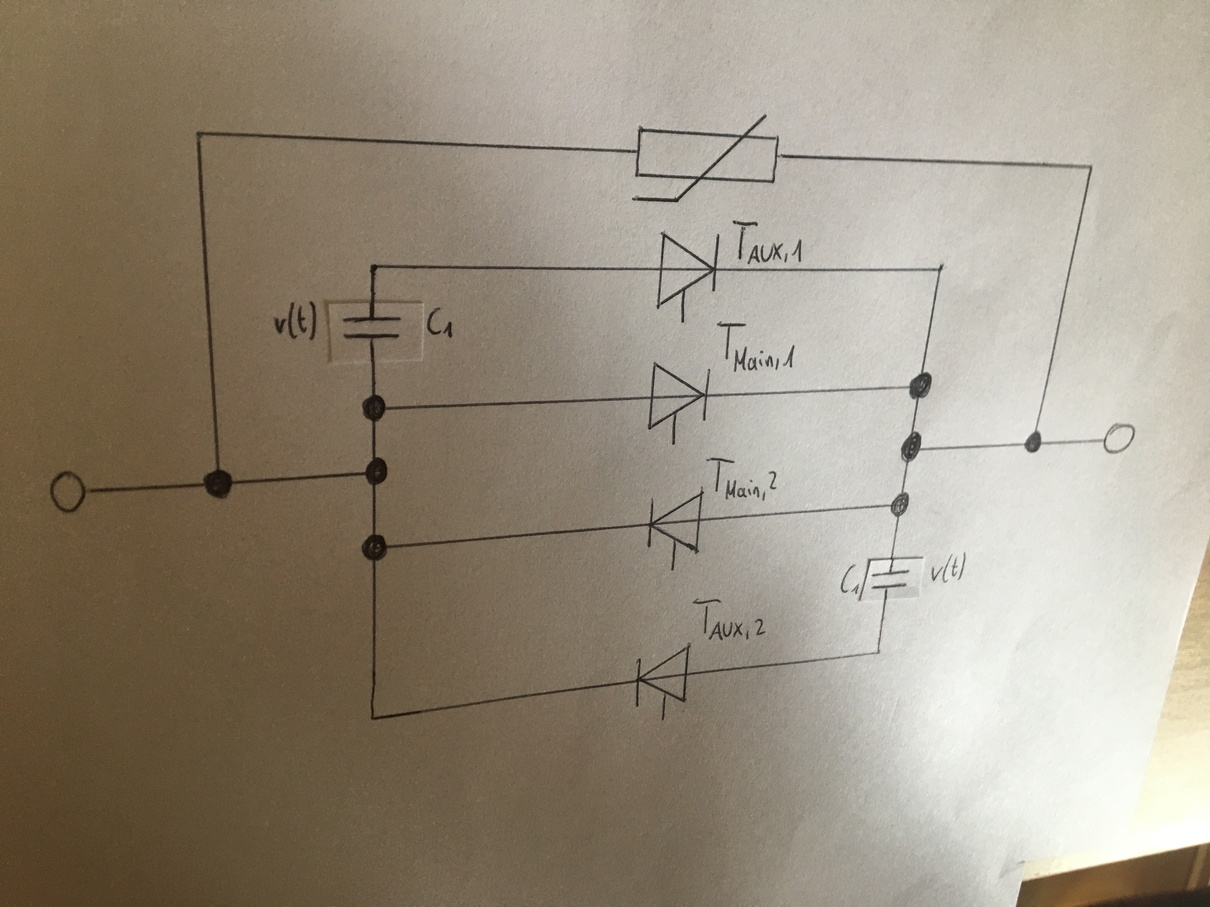capacitor.unpolarized: (339, 312, 407, 343), (869, 568, 912, 593)
junction: (202, 466, 235, 502), (896, 429, 924, 464), (359, 533, 390, 564), (360, 392, 389, 423), (363, 455, 390, 488), (908, 371, 933, 401), (889, 490, 911, 519), (1023, 429, 1043, 455), (366, 259, 382, 275), (192, 127, 206, 142), (934, 261, 947, 277), (366, 712, 380, 725), (872, 647, 885, 659), (1085, 161, 1096, 175)
terminal: (48, 467, 95, 517), (1101, 421, 1137, 455)
text: (715, 320, 797, 374), (705, 454, 780, 504), (728, 218, 807, 265), (690, 596, 767, 643), (269, 299, 318, 344), (927, 550, 968, 585), (425, 305, 456, 341), (838, 563, 862, 595)
thyristor: (652, 227, 723, 313), (645, 359, 714, 435), (630, 638, 694, 715), (642, 484, 707, 559)
varistor: (629, 111, 786, 206)
